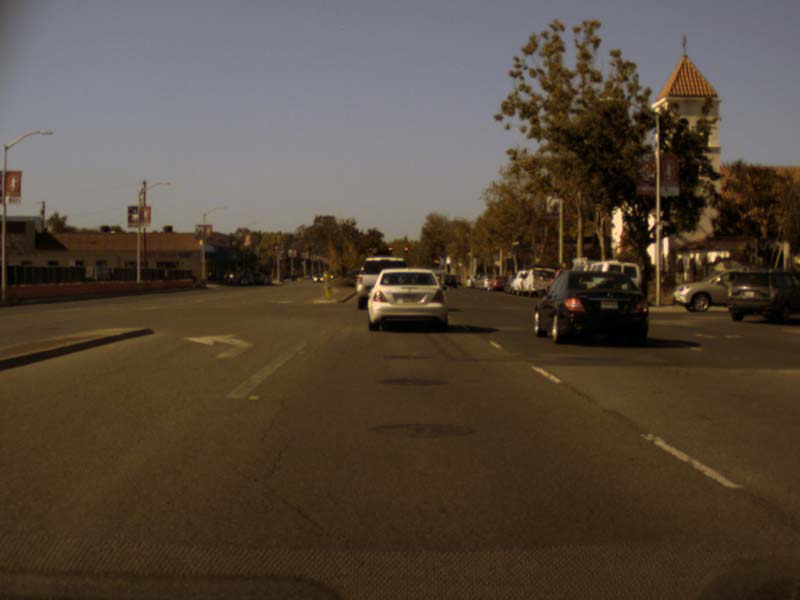Red: (403, 246, 409, 254), (387, 246, 392, 255), (433, 258, 439, 264), (368, 246, 372, 253)
